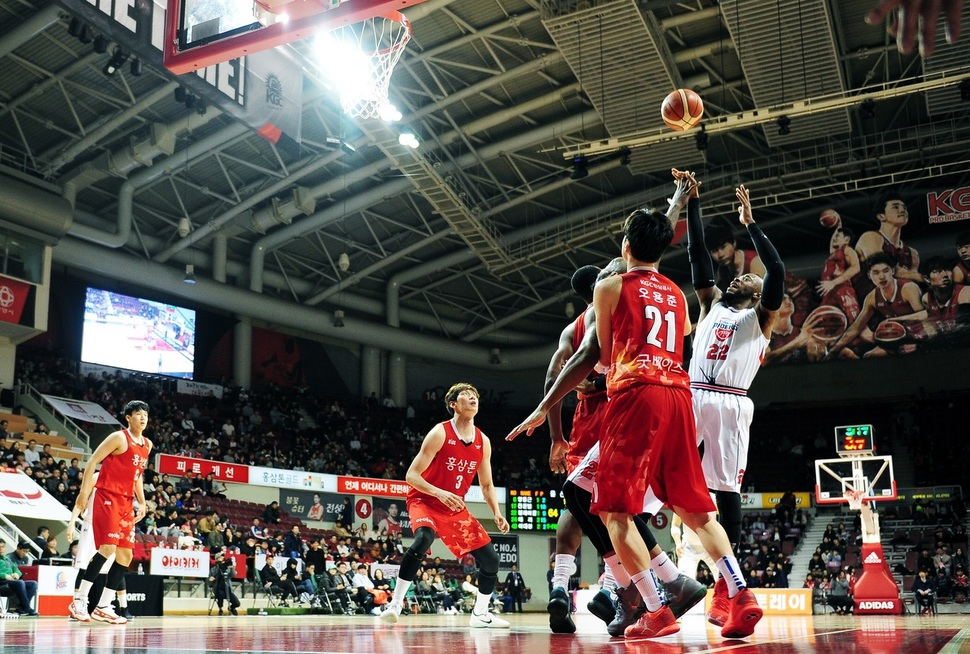ball: (657, 80, 714, 142)
shoot: (655, 70, 786, 566)
stand: (584, 198, 770, 653), (387, 369, 525, 640), (75, 398, 159, 631)
